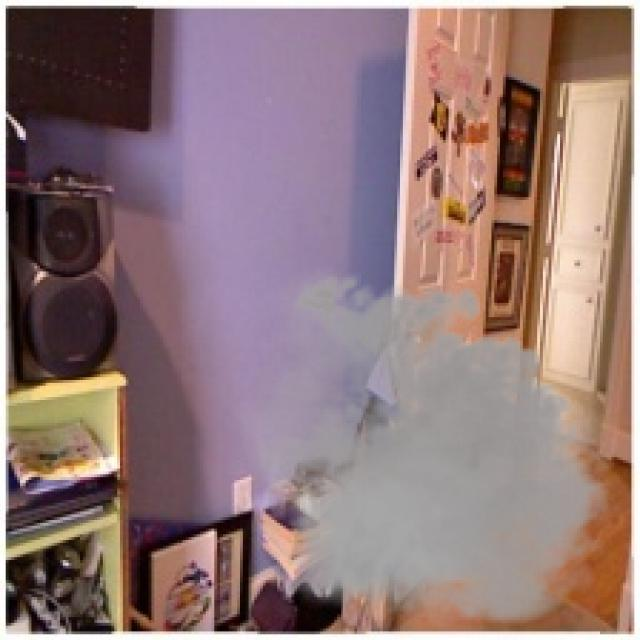Smoke: (231, 262, 623, 638)
